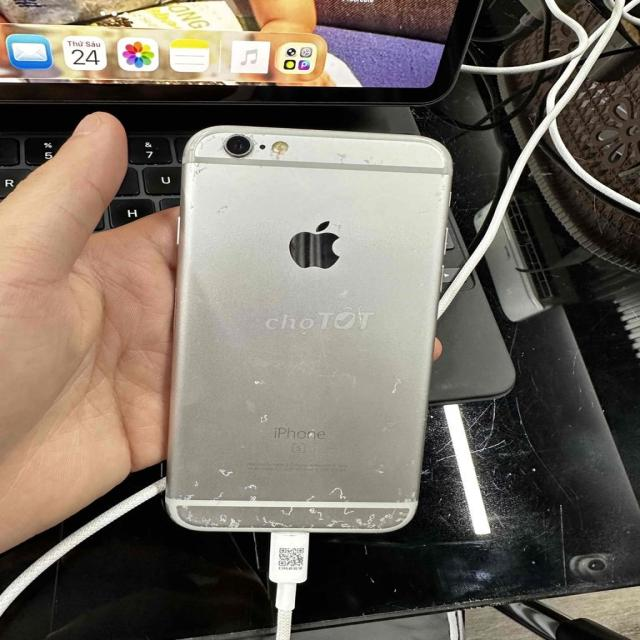scratch: (170, 117, 466, 186), (168, 457, 421, 532), (241, 366, 276, 431), (378, 357, 409, 415), (212, 197, 234, 218)
